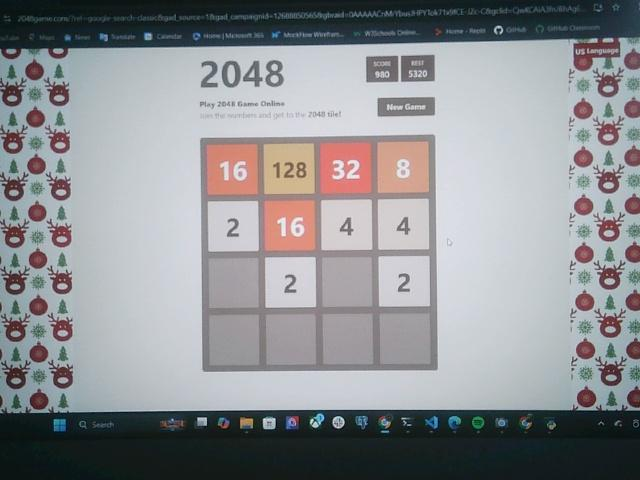board: (201, 137, 437, 372)
tile: (321, 200, 374, 251), (207, 144, 258, 196), (320, 143, 372, 194), (379, 257, 431, 308), (265, 143, 315, 195), (378, 143, 429, 193), (378, 200, 429, 250), (208, 202, 260, 251), (266, 201, 316, 251), (266, 258, 316, 307)
